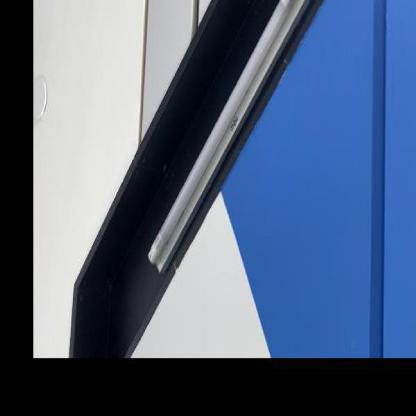light_off: (142, 0, 316, 289)
